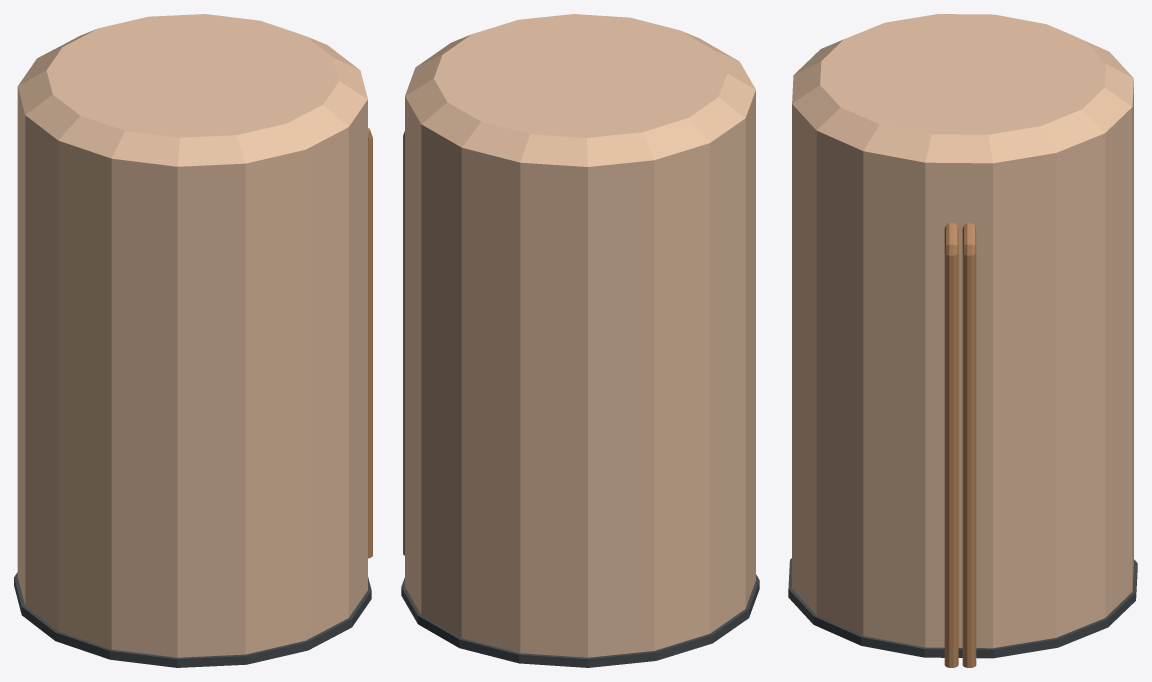
Rendered from Building_03.fbx.
The picture shows the model from 3 angles, left to right: view 1: azimuth 30°, elevation 25°; view 2: azimuth 150°, elevation 25°; view 3: azimuth 270°, elevation 25°; orthographic projection.
Visible parts, largest first — view 1: Building_03; view 2: Building_03; view 3: Building_03.
Part boxes in pixels (x1,y1,x2,y2): Building_03: (14,14,372,667); Building_03: (401,14,759,667); Building_03: (788,14,1137,667).
Size of the model in its own units: 1010 by 1528 by 948.
